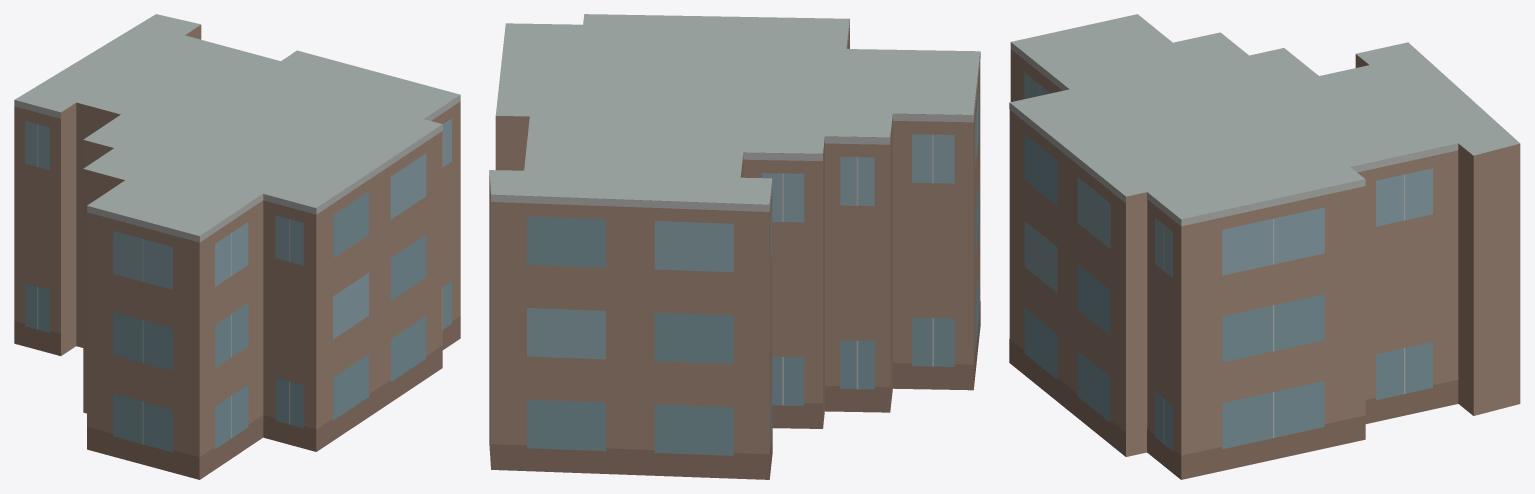
Rendered from survey-upis-32778442.glb.
3 views of the same model, side by side, from view 1: azimuth 30°, elevation 25°; view 2: azimuth 150°, elevation 25°; view 3: azimuth 270°, elevation 25° (orthographic). The views are drawn at different scales.
Parts seen in each view (by area): view 1: survey-upis-32778442.tmp; view 2: survey-upis-32778442.tmp; view 3: survey-upis-32778442.tmp.
Part boxes in pixels (left/top/right/bottom): survey-upis-32778442.tmp: left=14, top=14, right=460, bottom=479; survey-upis-32778442.tmp: left=489, top=14, right=980, bottom=479; survey-upis-32778442.tmp: left=1009, top=14, right=1520, bottom=479.
Bounding box in the file's own units: 15.49 × 9.15 × 16.28.
